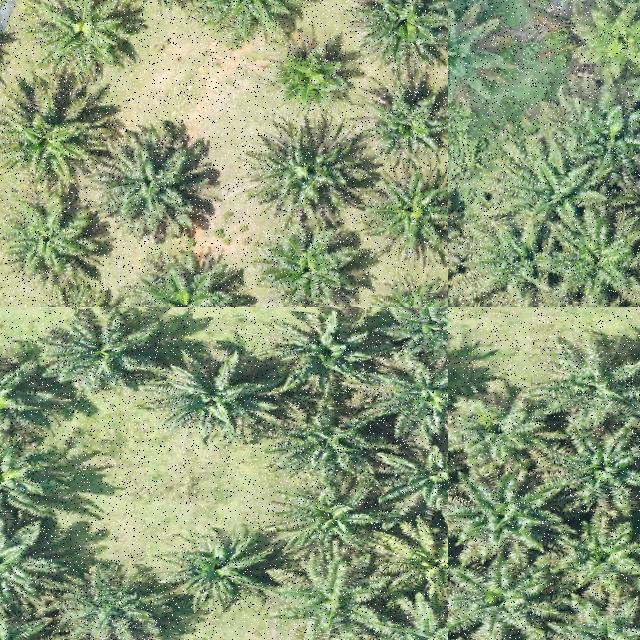Ganoderma: (586, 12, 640, 70)
